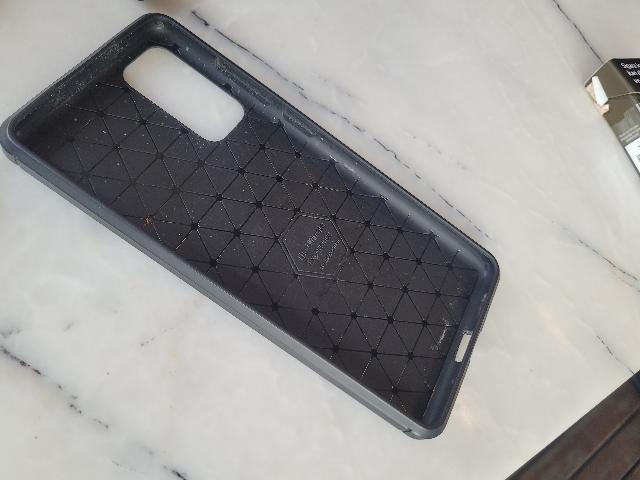Kagit: (583, 55, 640, 183)
Plastik: (2, 10, 513, 452)
